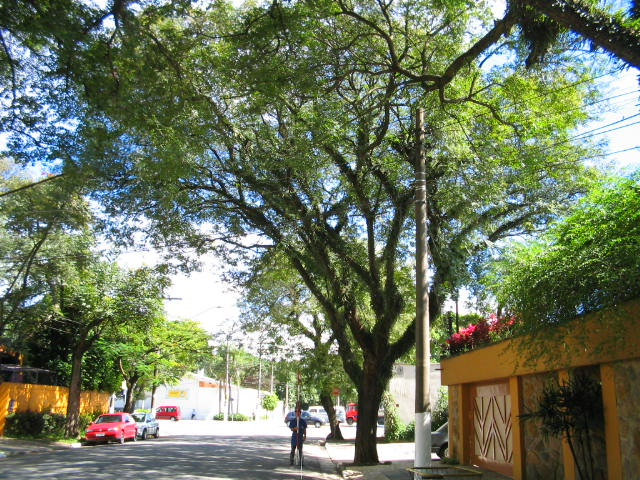crown: (158, 3, 602, 313)
stem: (342, 393, 397, 465)
stick: (292, 369, 303, 465)
tree: (156, 1, 603, 466)
